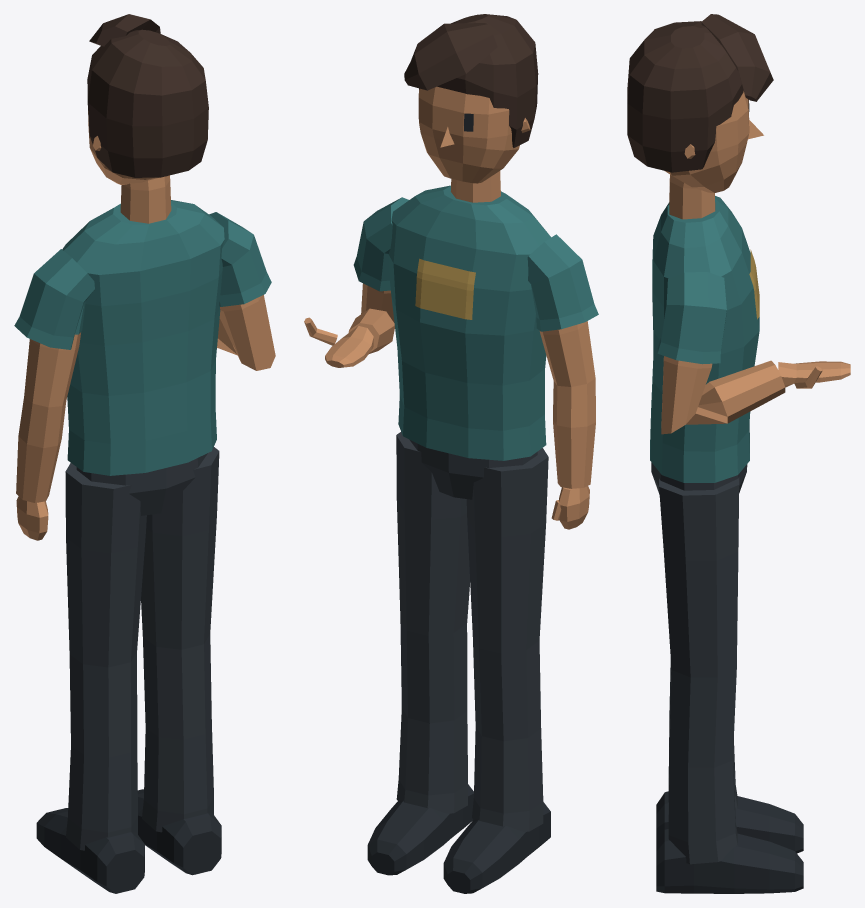
The model's file is lwf_attendee_male_food_hold_v2.glb.
3 renders of one model, left to right at view 1: azimuth 30°, elevation 25°; view 2: azimuth 150°, elevation 25°; view 3: azimuth 270°, elevation 25°, orthographic.
Parts seen in each view (by area): view 1: Attendee_male_food_hold_v6; view 2: Attendee_male_food_hold_v6; view 3: Attendee_male_food_hold_v6.
Part boxes in pixels (<box>): Attendee_male_food_hold_v6: <box>14,14,275,893</box>; Attendee_male_food_hold_v6: <box>304,14,598,893</box>; Attendee_male_food_hold_v6: <box>627,14,850,893</box>.
Size of the model in its own units: 0.5337 by 1.78 by 0.4261.
Materials: 1 (1 with a texture image).
